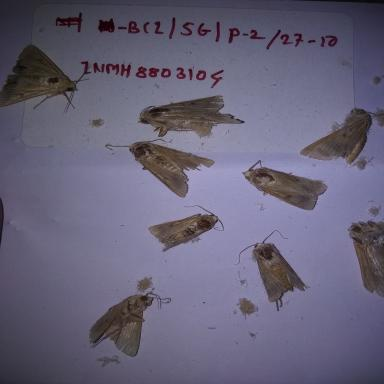abw: (104, 136, 220, 197), (84, 283, 177, 359), (1, 42, 94, 114), (232, 229, 311, 311), (129, 91, 247, 144), (232, 156, 334, 215), (297, 104, 375, 166), (146, 203, 226, 253), (339, 212, 384, 299)
